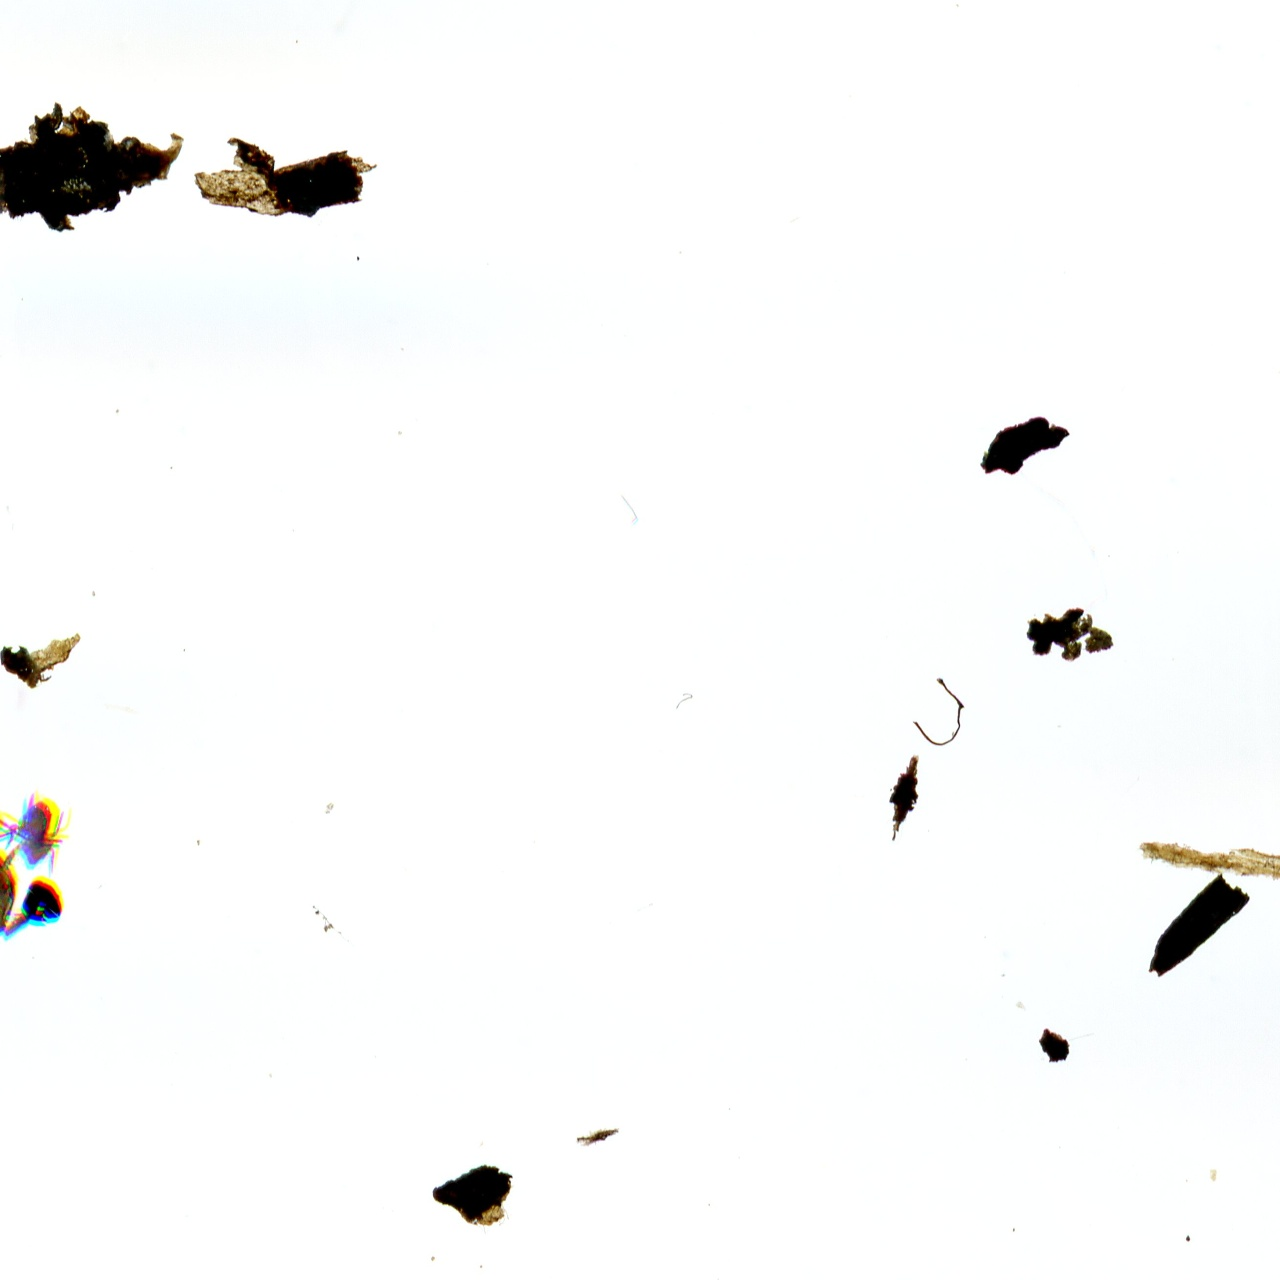arthropod: (0, 792, 80, 884), (0, 797, 22, 986)
